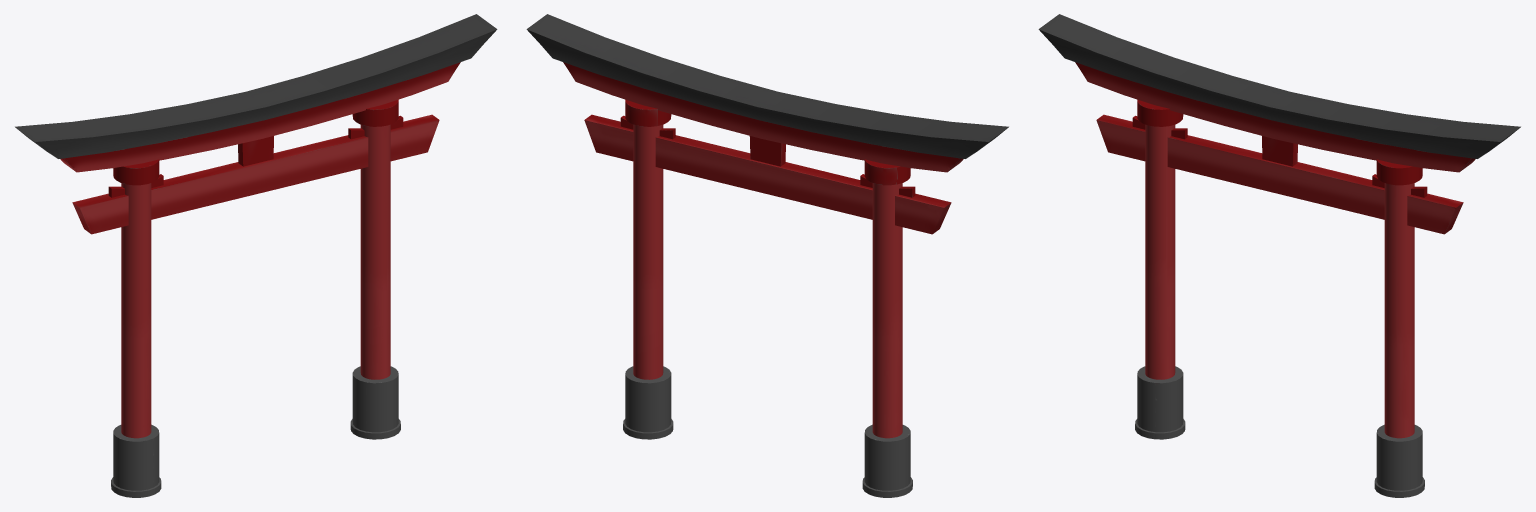
The model's file is Torii2.fbx.
3 renders of one model, left to right at view 1: azimuth 30°, elevation 25°; view 2: azimuth 150°, elevation 25°; view 3: azimuth 330°, elevation 25°, orthographic.
Parts seen in each view (by area): view 1: pCube1; view 2: pCube1; view 3: pCube1.
Boxes of the visible parts, x1,y1,x2,y2 form: pCube1: (15, 14, 497, 497); pCube1: (526, 14, 1008, 497); pCube1: (1038, 14, 1520, 497).
Bounding box in the file's own units: 84.93 × 66.74 × 8.05.
